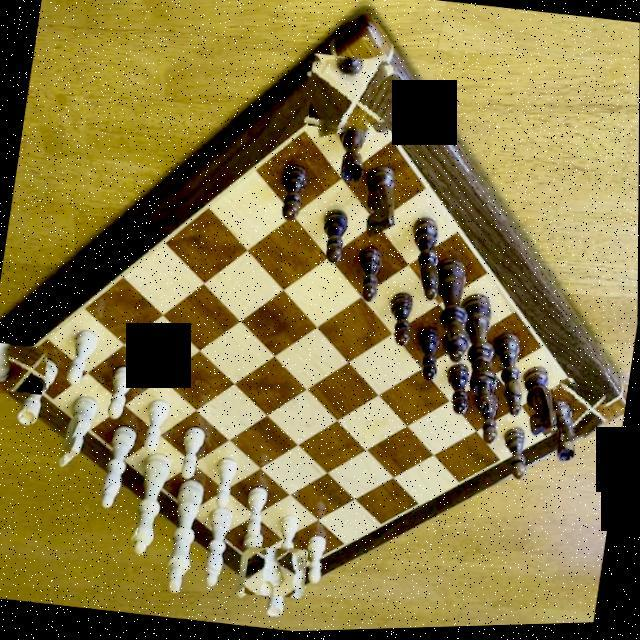chess-table-corners: (303, 53, 403, 145), (550, 380, 614, 450), (244, 544, 310, 604), (0, 341, 51, 398)
